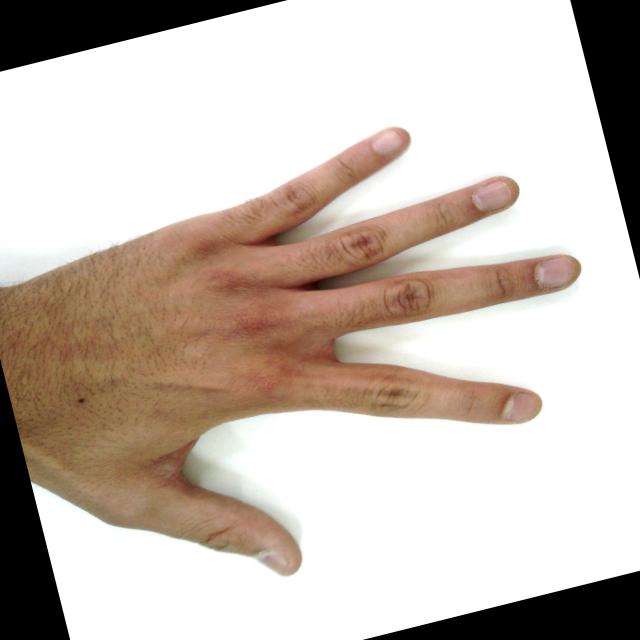Nail: (501, 389, 542, 422), (535, 254, 576, 286), (472, 178, 512, 209), (371, 125, 410, 155), (253, 549, 287, 575)
